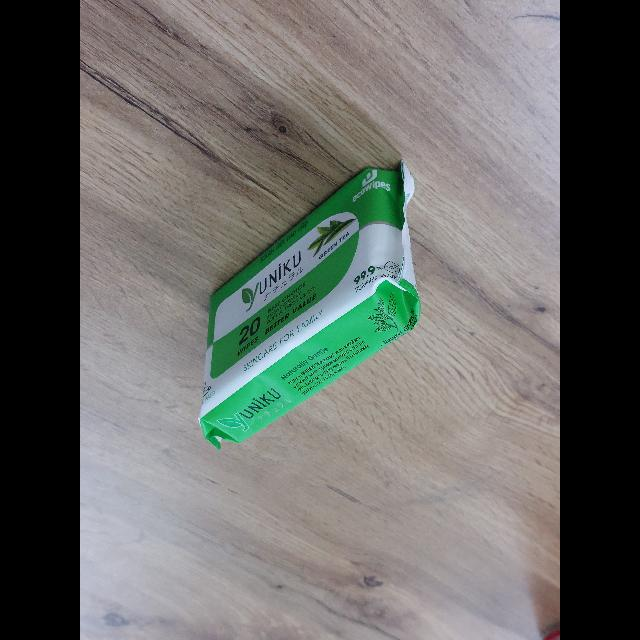khan_giay: (199, 163, 420, 449)
